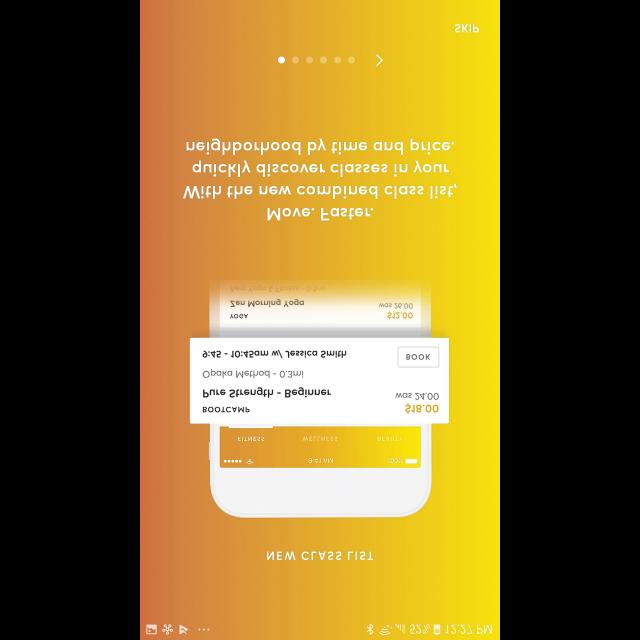icon: (376, 54, 384, 66)
image: (190, 279, 448, 517)
pageindicator: (278, 56, 356, 64)
text: (182, 137, 458, 220), (267, 551, 373, 561), (454, 23, 480, 32)
uppertaskbar: (140, 622, 500, 638)
